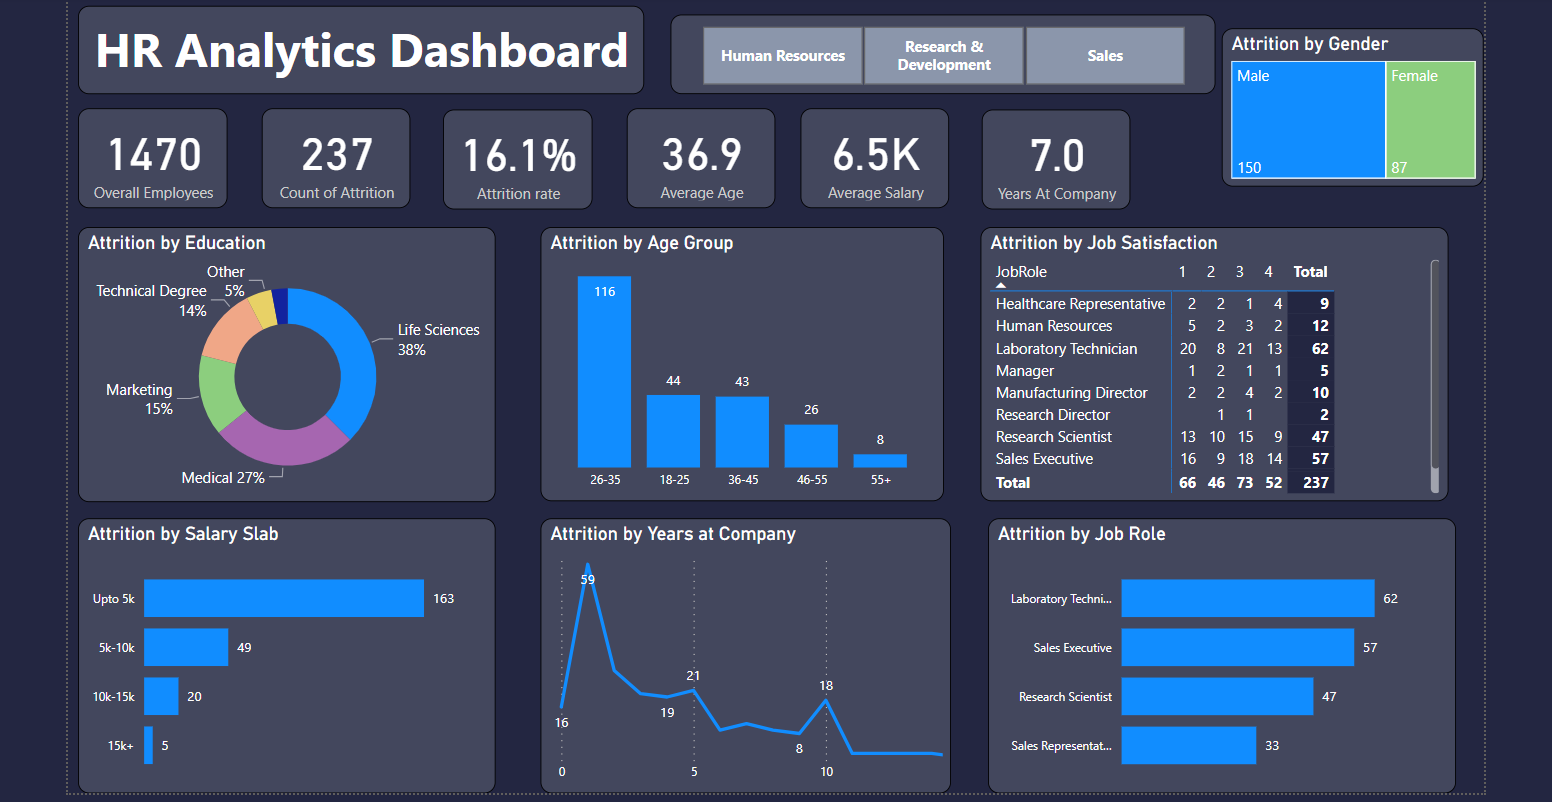

The page's visual inventory and layout, read from the dashboard file:
{"tool":"powerbi","page":{"name":"Page 1","canvas":[1280,720],"ordinal":0},"visuals":[{"type":"textbox","box":[9,7.9,512,80.3],"z":0},{"type":"card","fields":{"Values":["Count(HR_Analytics.EmpID)"]},"box":[9.6,100.9,135,90.1],"z":1000},{"type":"card","fields":{"Values":["CountNonNull(Attrition HR_Analytics.Attrition)"]},"box":[175.3,100.9,134.5,90.1],"z":2000},{"type":"card","fields":{"Values":["Attrition HR_Analytics.Attrition rate"]},"box":[338.6,102.1,135,90.1],"z":3000},{"type":"card","fields":{"Values":["Avg(HR_Analytics.Age)"]},"box":[505.5,100.9,134.5,90.1],"z":4000},{"type":"card","fields":{"Values":["Avg(HR_Analytics.YearsAtCompany)"]},"box":[826.1,102.1,134.5,90.1],"z":5000},{"type":"card","fields":{"Values":["Avg(HR_Analytics.MonthlyIncome)"]},"box":[662.8,100.9,134.5,90.1],"z":6000},{"type":"donutChart","title":"Attrition by Education","fields":{"Y":["CountNonNull(Attrition HR_Analytics.Attrition)"],"Category":["Attrition HR_Analytics.EducationField"]},"box":[9,208,377.5,248.7],"z":7000},{"type":"columnChart","title":"Attrition by Age Group","fields":{"Category":["Attrition HR_Analytics.AgeGroup"],"Y":["CountNonNull(Attrition HR_Analytics.Attrition)"]},"box":[426.7,208.1,365.1,247.7],"z":8000},{"type":"barChart","title":"Attrition by Salary Slab","fields":{"Category":["Attrition HR_Analytics.SalarySlab"],"Y":["CountNonNull(Attrition HR_Analytics.Attrition)"]},"box":[9,471.3,377.5,248.7],"z":9000},{"type":"lineChart","title":"Attrition by Years at Company","fields":{"Category":["Attrition HR_Analytics.YearsAtCompany"],"Y":["CountNonNull(Attrition HR_Analytics.Attrition)"]},"box":[426.7,470.9,370.9,248.8],"z":10000},{"type":"barChart","title":"Attrition by Job Role","fields":{"Category":["Attrition HR_Analytics.JobRole"],"Y":["CountNonNull(Attrition HR_Analytics.Attrition)"]},"box":[831.4,470.9,423.3,248.8],"z":11000},{"type":"pivotTable","title":"Attrition by Job Satisfaction","fields":{"Rows":["Attrition HR_Analytics.JobRole"],"Columns":["Attrition HR_Analytics.JobSatisfaction"],"Values":["CountNonNull(Attrition HR_Analytics.Attrition)"]},"box":[825.6,208.1,423.3,247.7],"z":12000},{"type":"treemap","title":"Attrition by Gender","fields":{"Group":["Attrition HR_Analytics.Gender"],"Values":["CountNonNull(Attrition HR_Analytics.Attrition)"]},"box":[1043.5,28.8,236.5,142.9],"z":13000},{"type":"slicer","fields":{"Values":["Attrition HR_Analytics.Department"]},"box":[544.8,15.8,492.8,72.3],"z":14000}]}

Visuals, with their boxes on the page's 1280x720 design canvas (x1, y1, x2, y2). These are canvas units, not pixel positions in the 1552x802 screenshot, which may show the page scaled, cropped or inside an application window:
textbox: <region>9, 8, 521, 88</region>
card - Count(HR_Analytics.EmpID): <region>10, 101, 145, 191</region>
card - CountNonNull(Attrition HR_Analytics.Attrition): <region>175, 101, 310, 191</region>
card - Attrition HR_Analytics.Attrition rate: <region>339, 102, 474, 192</region>
card - Avg(HR_Analytics.Age): <region>506, 101, 640, 191</region>
card - Avg(HR_Analytics.YearsAtCompany): <region>826, 102, 961, 192</region>
card - Avg(HR_Analytics.MonthlyIncome): <region>663, 101, 797, 191</region>
"Attrition by Education" donutChart: <region>9, 208, 386, 457</region>
"Attrition by Age Group" columnChart: <region>427, 208, 792, 456</region>
"Attrition by Salary Slab" barChart: <region>9, 471, 386, 720</region>
"Attrition by Years at Company" lineChart: <region>427, 471, 798, 720</region>
"Attrition by Job Role" barChart: <region>831, 471, 1255, 720</region>
"Attrition by Job Satisfaction" pivotTable: <region>826, 208, 1249, 456</region>
"Attrition by Gender" treemap: <region>1044, 29, 1280, 172</region>
slicer - Attrition HR_Analytics.Department: <region>545, 16, 1038, 88</region>
